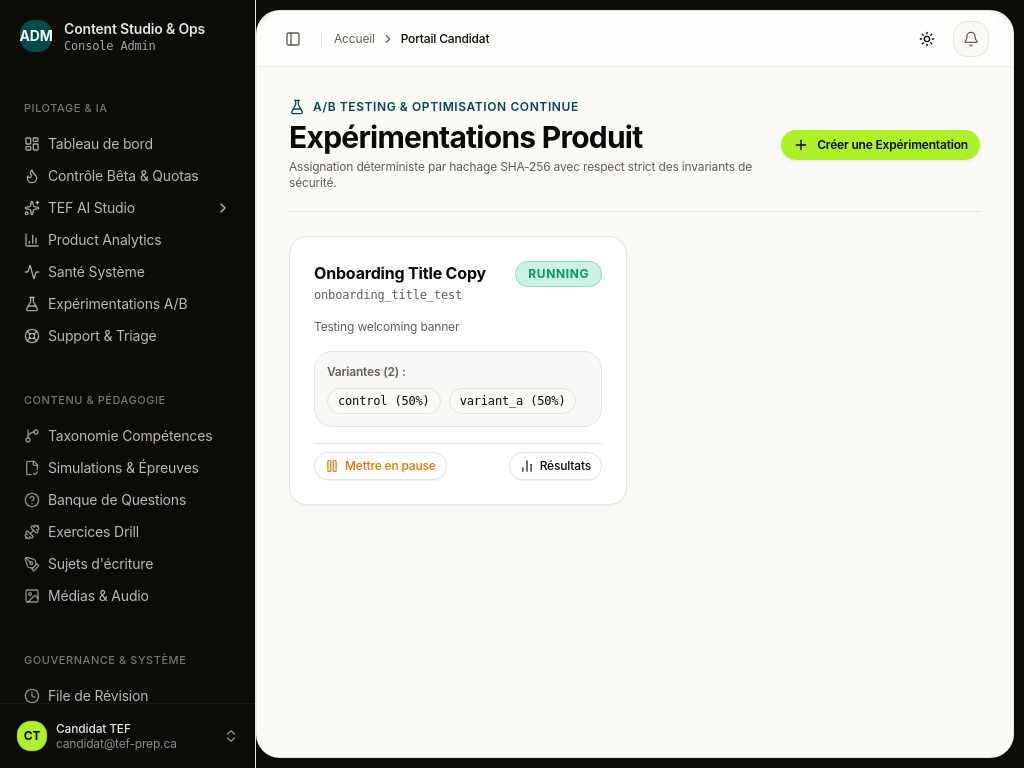
Test: Beta Operations & Product Analytics Frontend › AdminExperimentsPage: lists experiments and renders safety invariant warning on protected keys
Check: the heading "Onboarding Title Copy" is shown, box [314,261,486,285]
Check: the text "onboarding_title_test" is shown, box [314,287,486,303]
# Open create modal
Click the button "Créer une Expérimentation".
click(881, 145)  # box [780,129,981,161]
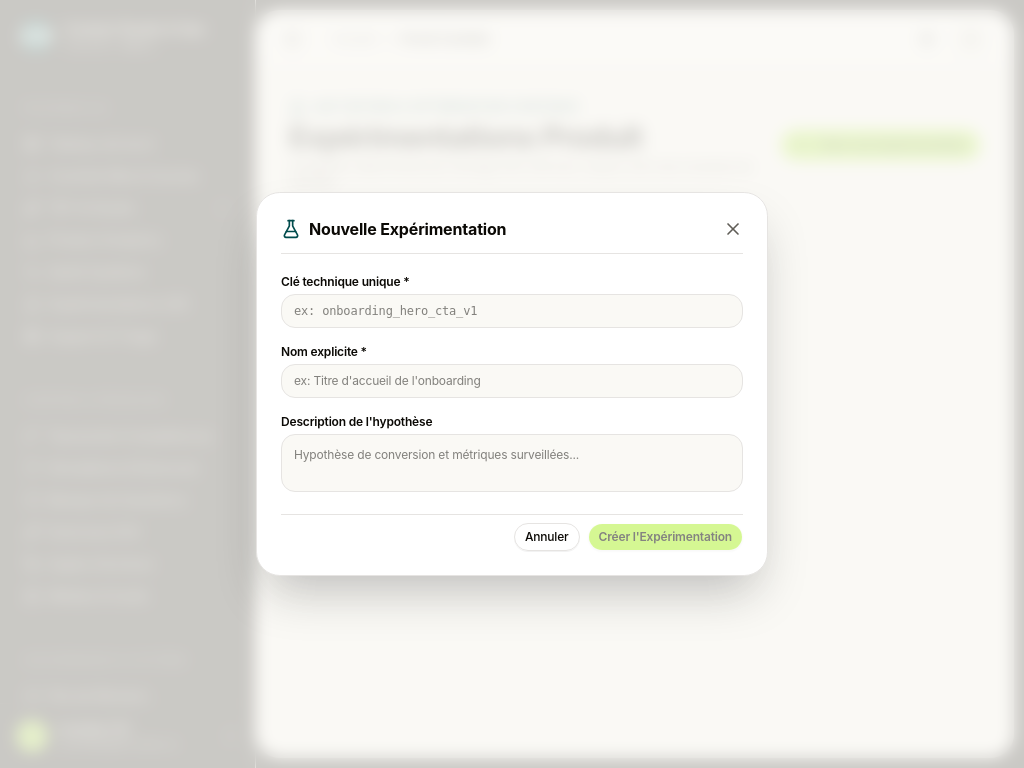
Check: the text "Nouvelle Expérimentation" is shown, box [309,217,506,241]
# Enter a forbidden key to verify safety guard
Type "payment_button_test" into the field with placeholder "ex: onboarding_hero_cta_v1".
click(512, 311); type("payment_button_test")  # box [281,294,743,328]
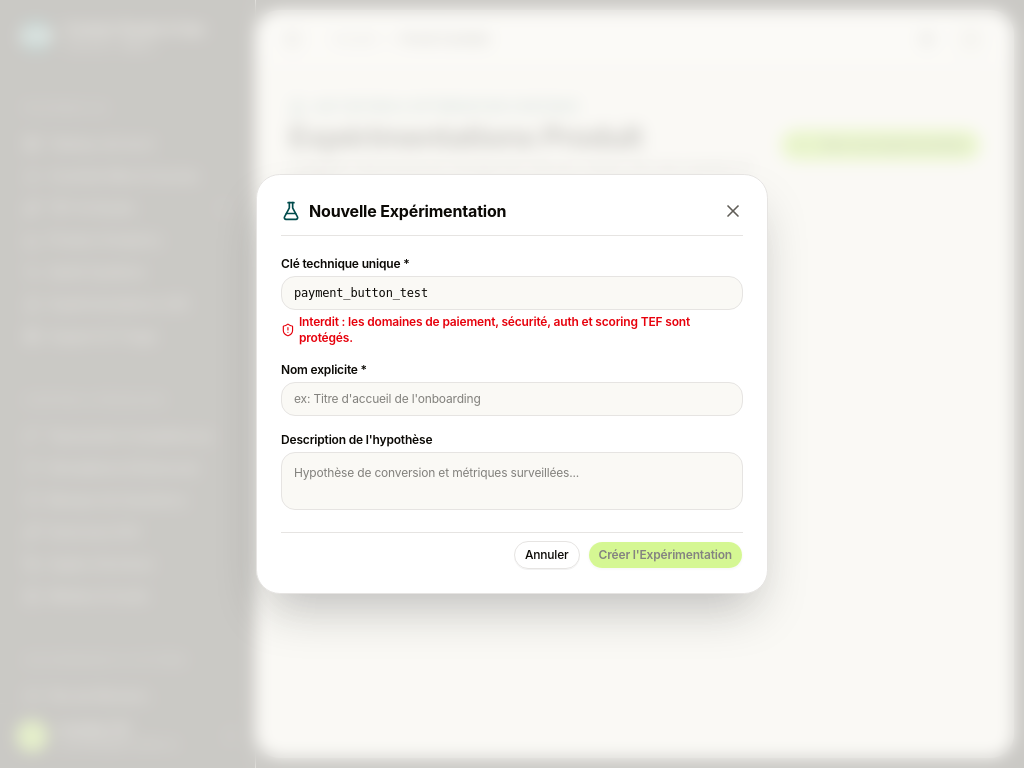
Check: the text "Interdit : les domaines de paiement" is shown, box [299,314,690,345]
